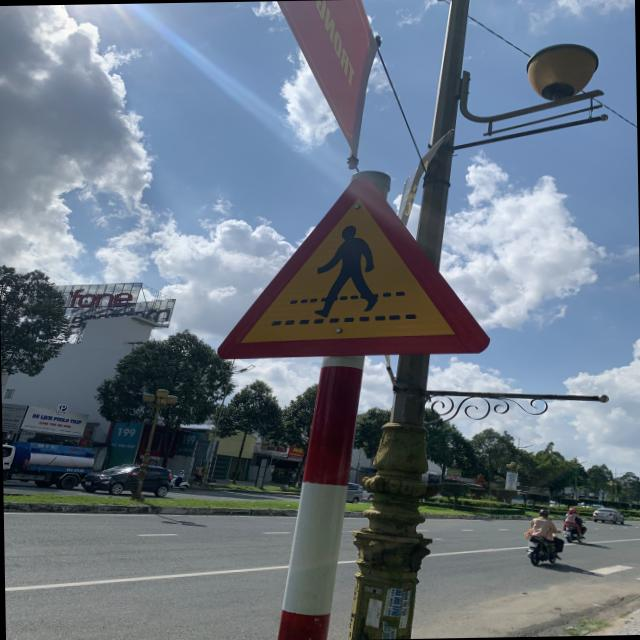Duong_Nguoi_Di_Bo_Sang_Ngang: (215, 174, 484, 358)
